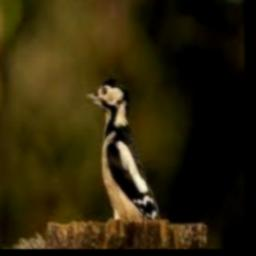Woodpecker: (84, 80, 160, 220)
